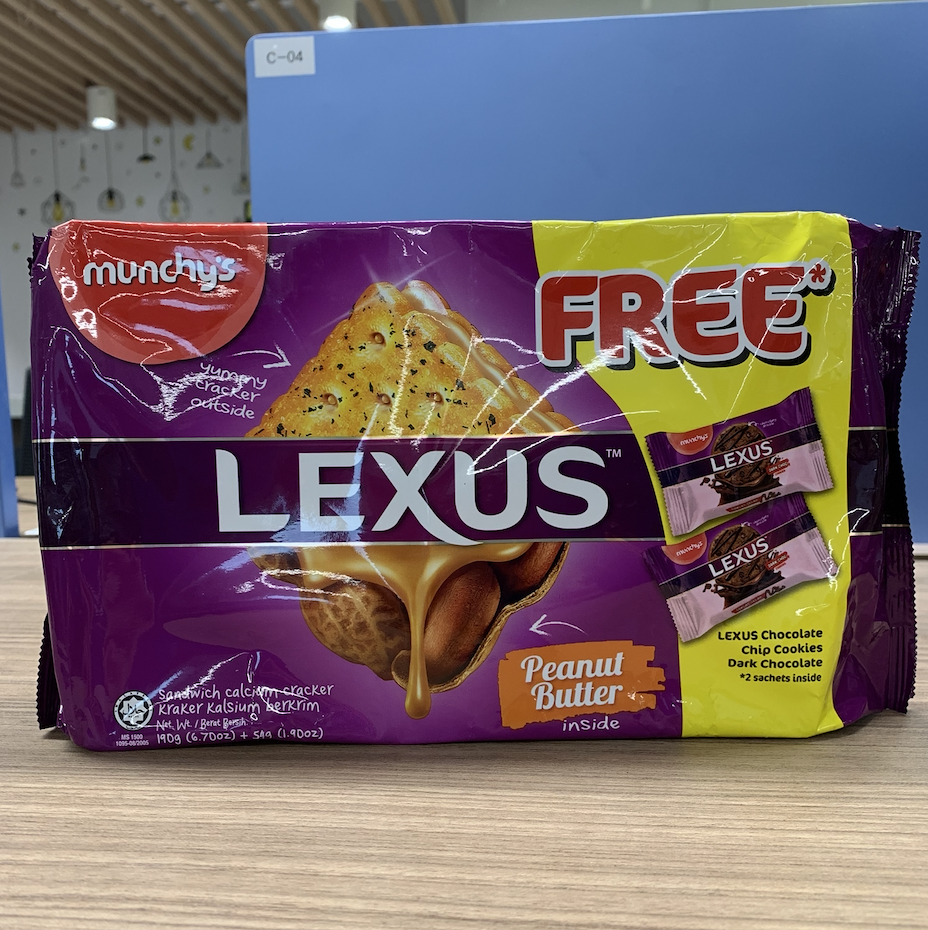cookies_200g-299g: (59, 228, 875, 721)
